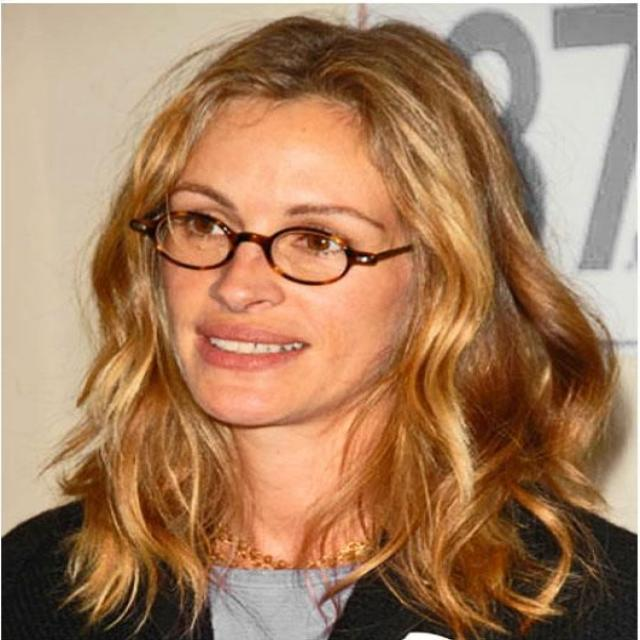Glasses: (125, 204, 415, 291)
